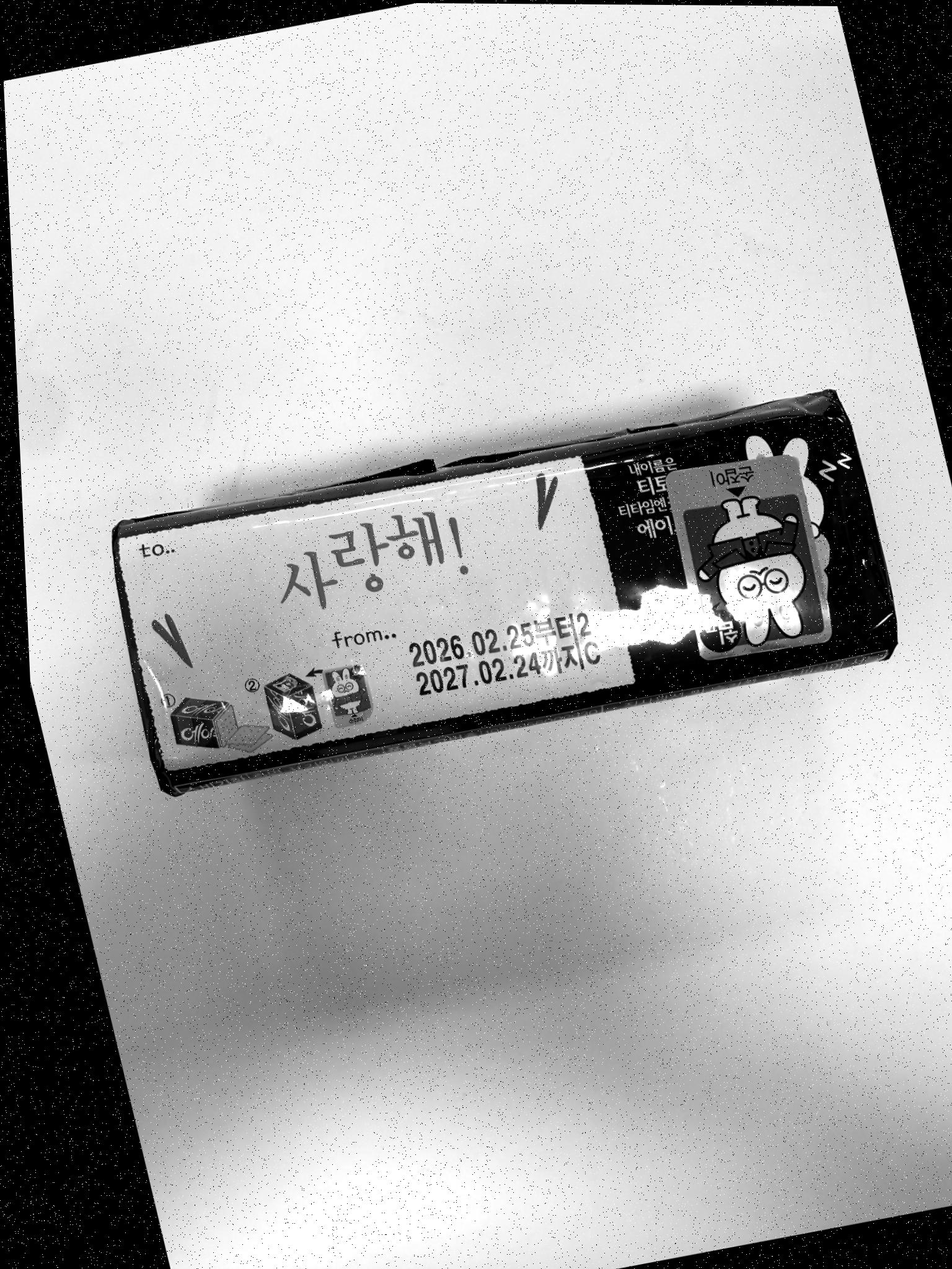cracker_ace: (112, 390, 896, 795)
